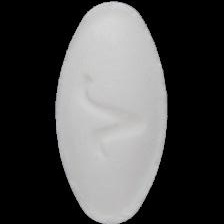35356-920: (0, 0, 224, 224)
